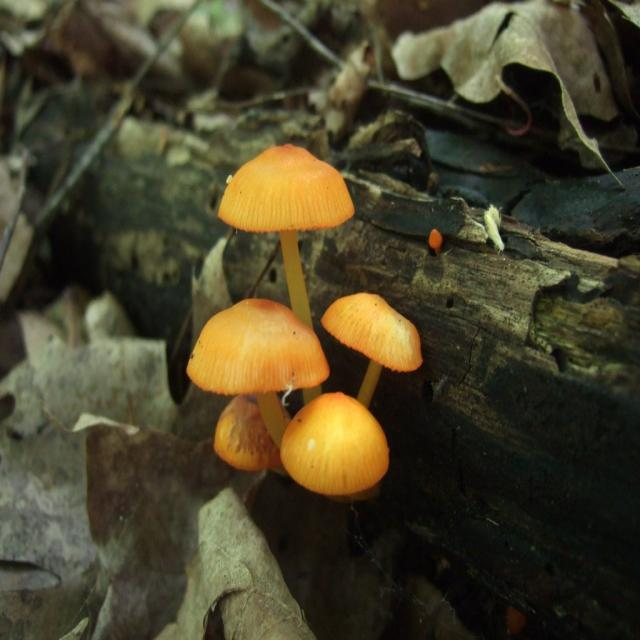Mushroom: (217, 141, 356, 402), (183, 300, 330, 452), (278, 385, 390, 498), (324, 291, 428, 409), (213, 394, 285, 476)
